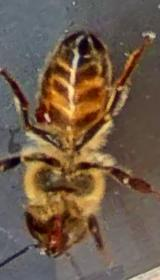varroa_mite: (26, 104, 54, 128)
